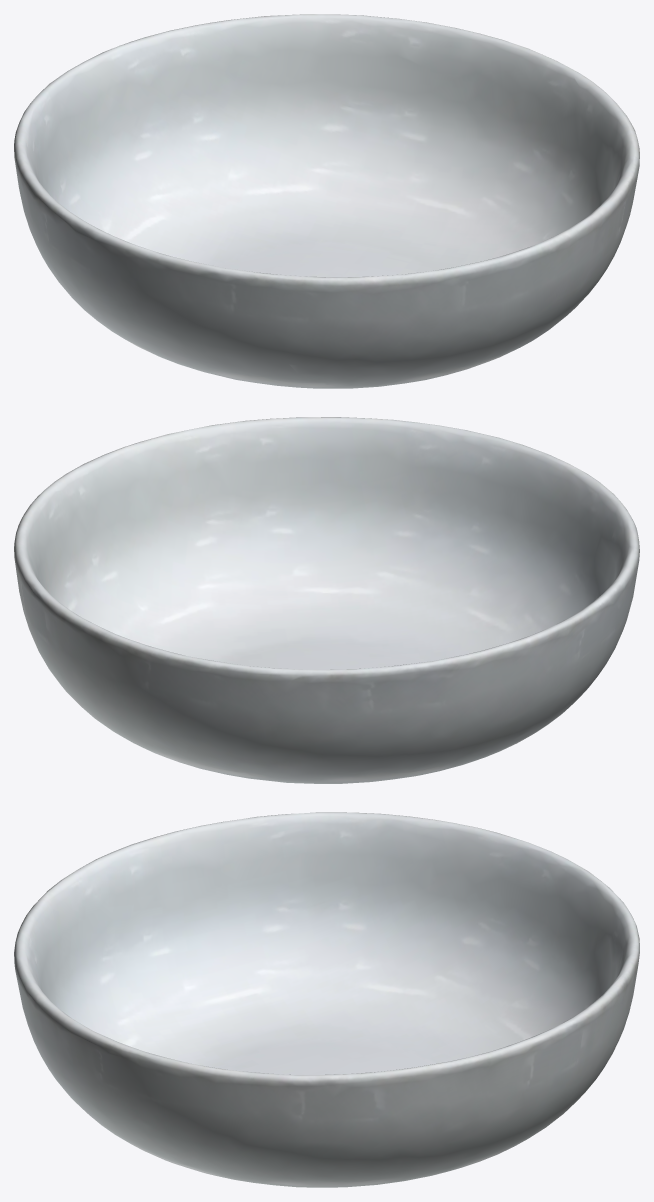
Rendered from Threshold_Porcelain_Serving_Bowl_Coupe_White.glb.
3 renders of one model, top to bottom at view 1: azimuth 30°, elevation 25°; view 2: azimuth 150°, elevation 25°; view 3: azimuth 270°, elevation 25°, orthographic.
Parts seen in each view (by area): view 1: model.obj; view 2: model.obj; view 3: model.obj.
Part boxes in pixels (<box>): model.obj: <box>14,14,639,388</box>; model.obj: <box>14,417,639,783</box>; model.obj: <box>14,812,639,1187</box>.
Size of the model in its own units: 0.9947 by 0.3291 by 1.
Materials: 1 (1 with a texture image).
